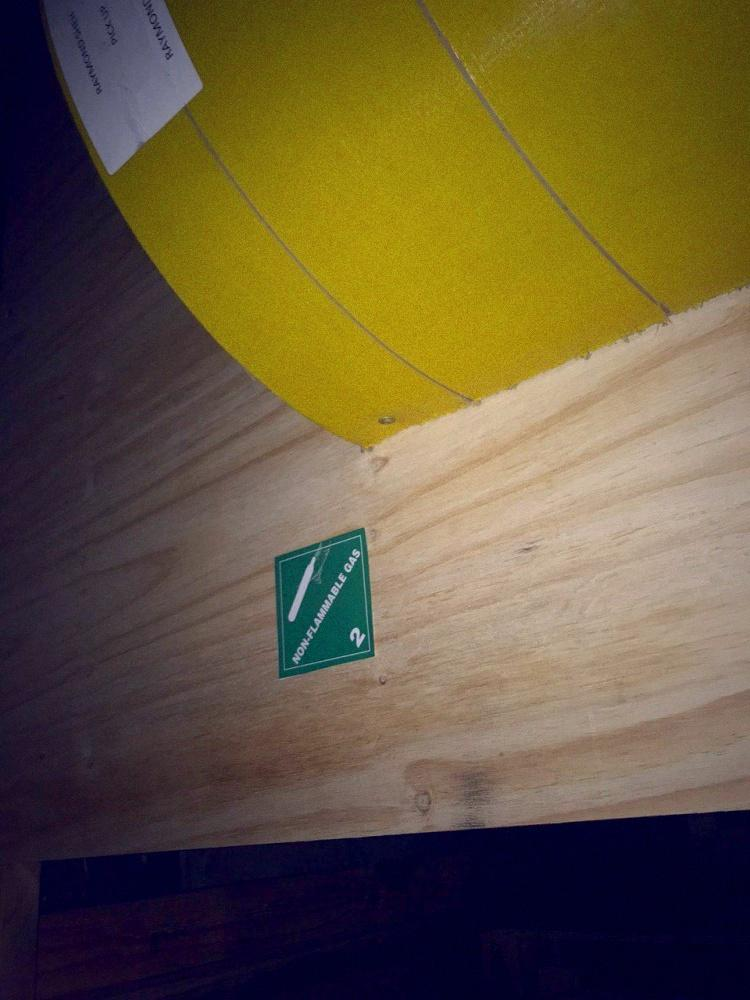non-flammable-gas: (273, 527, 376, 679)
